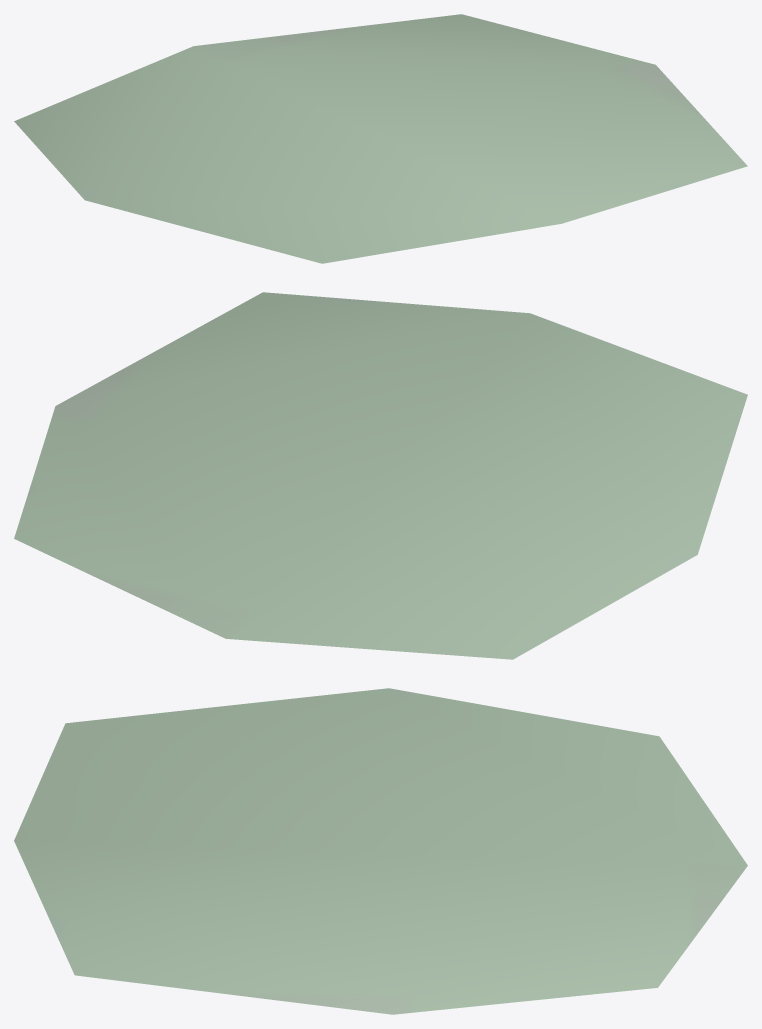
Rendered from TROLLHOLE02_HOLECAP20.fbx.
3 renders of one model, top to bottom at view 1: azimuth 30°, elevation 25°; view 2: azimuth 150°, elevation 25°; view 3: azimuth 270°, elevation 25°, orthographic. The views are drawn at different scales.
Parts seen in each view (by area): view 1: TROLLHOLE02_HOLECAP20; view 2: TROLLHOLE02_HOLECAP20; view 3: TROLLHOLE02_HOLECAP20.
Part boxes in pixels (bbox=[...]): TROLLHOLE02_HOLECAP20: bbox=[14, 14, 747, 263]; TROLLHOLE02_HOLECAP20: bbox=[14, 292, 747, 659]; TROLLHOLE02_HOLECAP20: bbox=[14, 688, 747, 1014].
Size of the model in its own units: 31696 by 2384 by 30698.
Materials: 1 (1 with a texture image).
